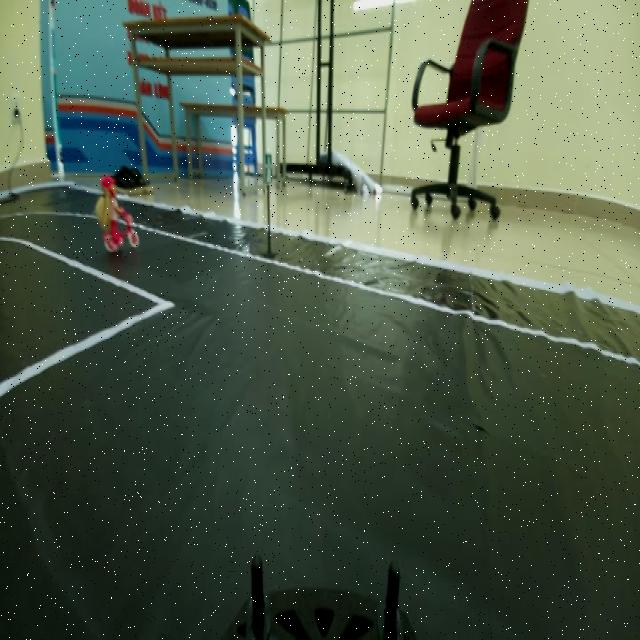pedestrian: (85, 173, 146, 252)
